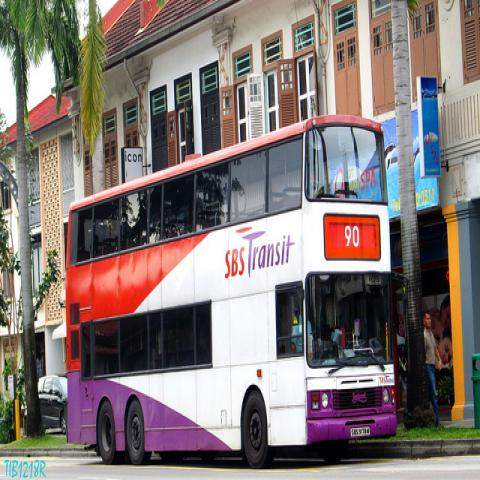bus: (64, 114, 397, 467)
car: (21, 374, 67, 432)
